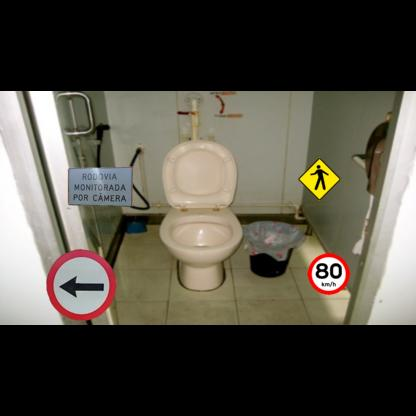A-32a: (298, 158, 341, 201)
I-E: (68, 166, 133, 207)
R-19: (308, 253, 350, 295)
R-24a: (46, 249, 116, 320)
